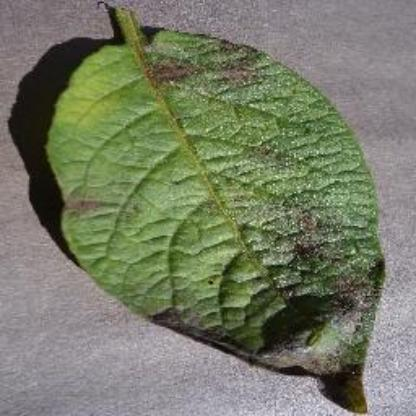Late-Blight: (42, 6, 388, 408)
